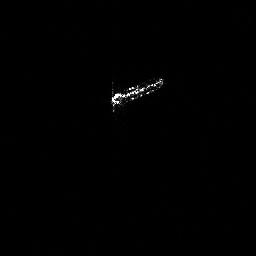ship: (110, 76, 165, 115)
